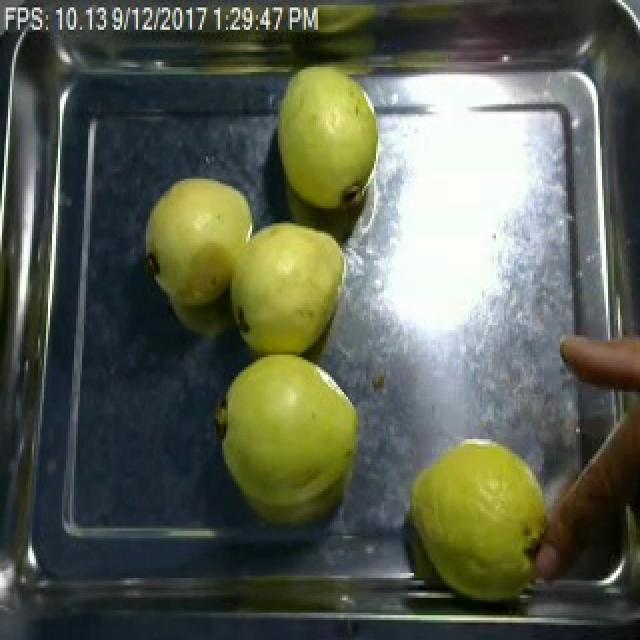Fruit: (398, 427, 566, 610), (210, 345, 372, 531), (220, 211, 360, 367), (268, 57, 390, 218), (138, 168, 264, 318)
